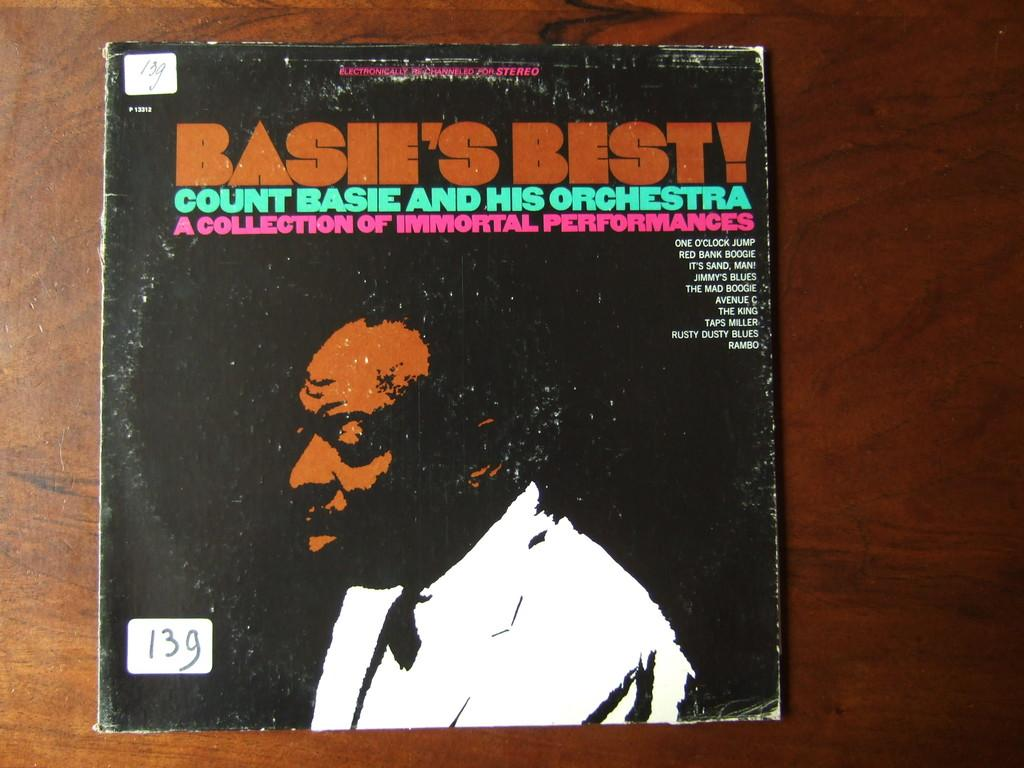book: (88, 50, 779, 729)
